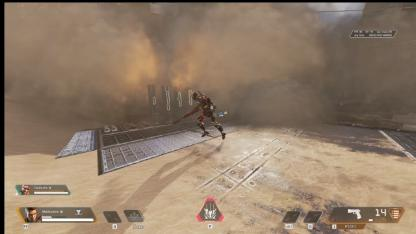Target: (191, 90, 223, 138)
